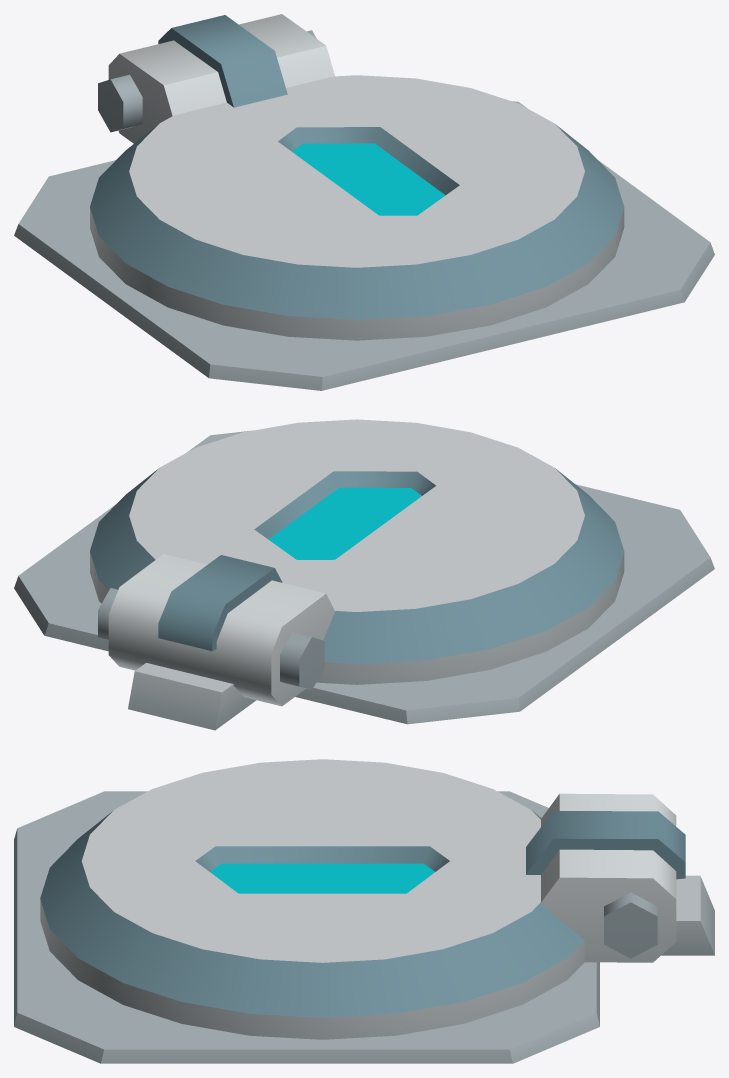
The model's file is Hatch_002.glb.
3 renders of one model, top to bottom at view 1: azimuth 30°, elevation 25°; view 2: azimuth 150°, elevation 25°; view 3: azimuth 270°, elevation 25°, orthographic. The views are drawn at different scales.
Visible parts, largest first — view 1: Hatch_002; view 2: Hatch_002; view 3: Hatch_002.
Boxes of the visible parts, x1,y1,x2,y2 form: Hatch_002: (14, 14, 714, 390); Hatch_002: (14, 419, 714, 730); Hatch_002: (14, 759, 714, 1063).
Size of the model in its own units: 0.8747 by 0.1693 by 0.9925.
Materials: 2 (2 with a texture image).
